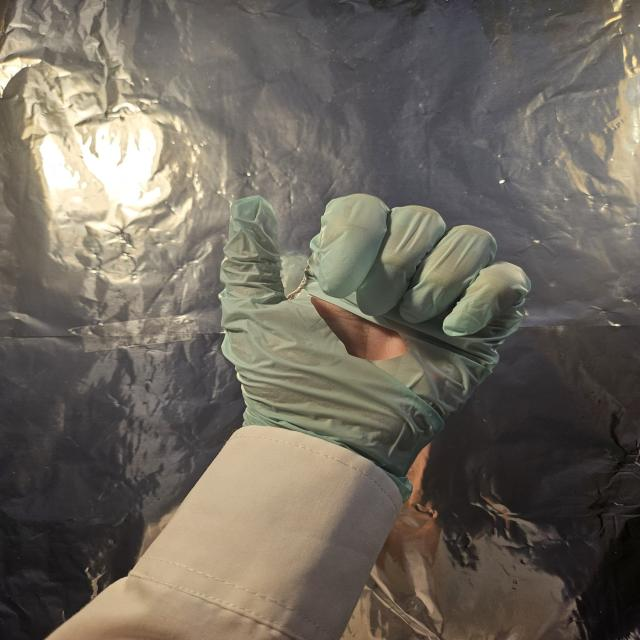gloves_damaged: (212, 188, 538, 478)
